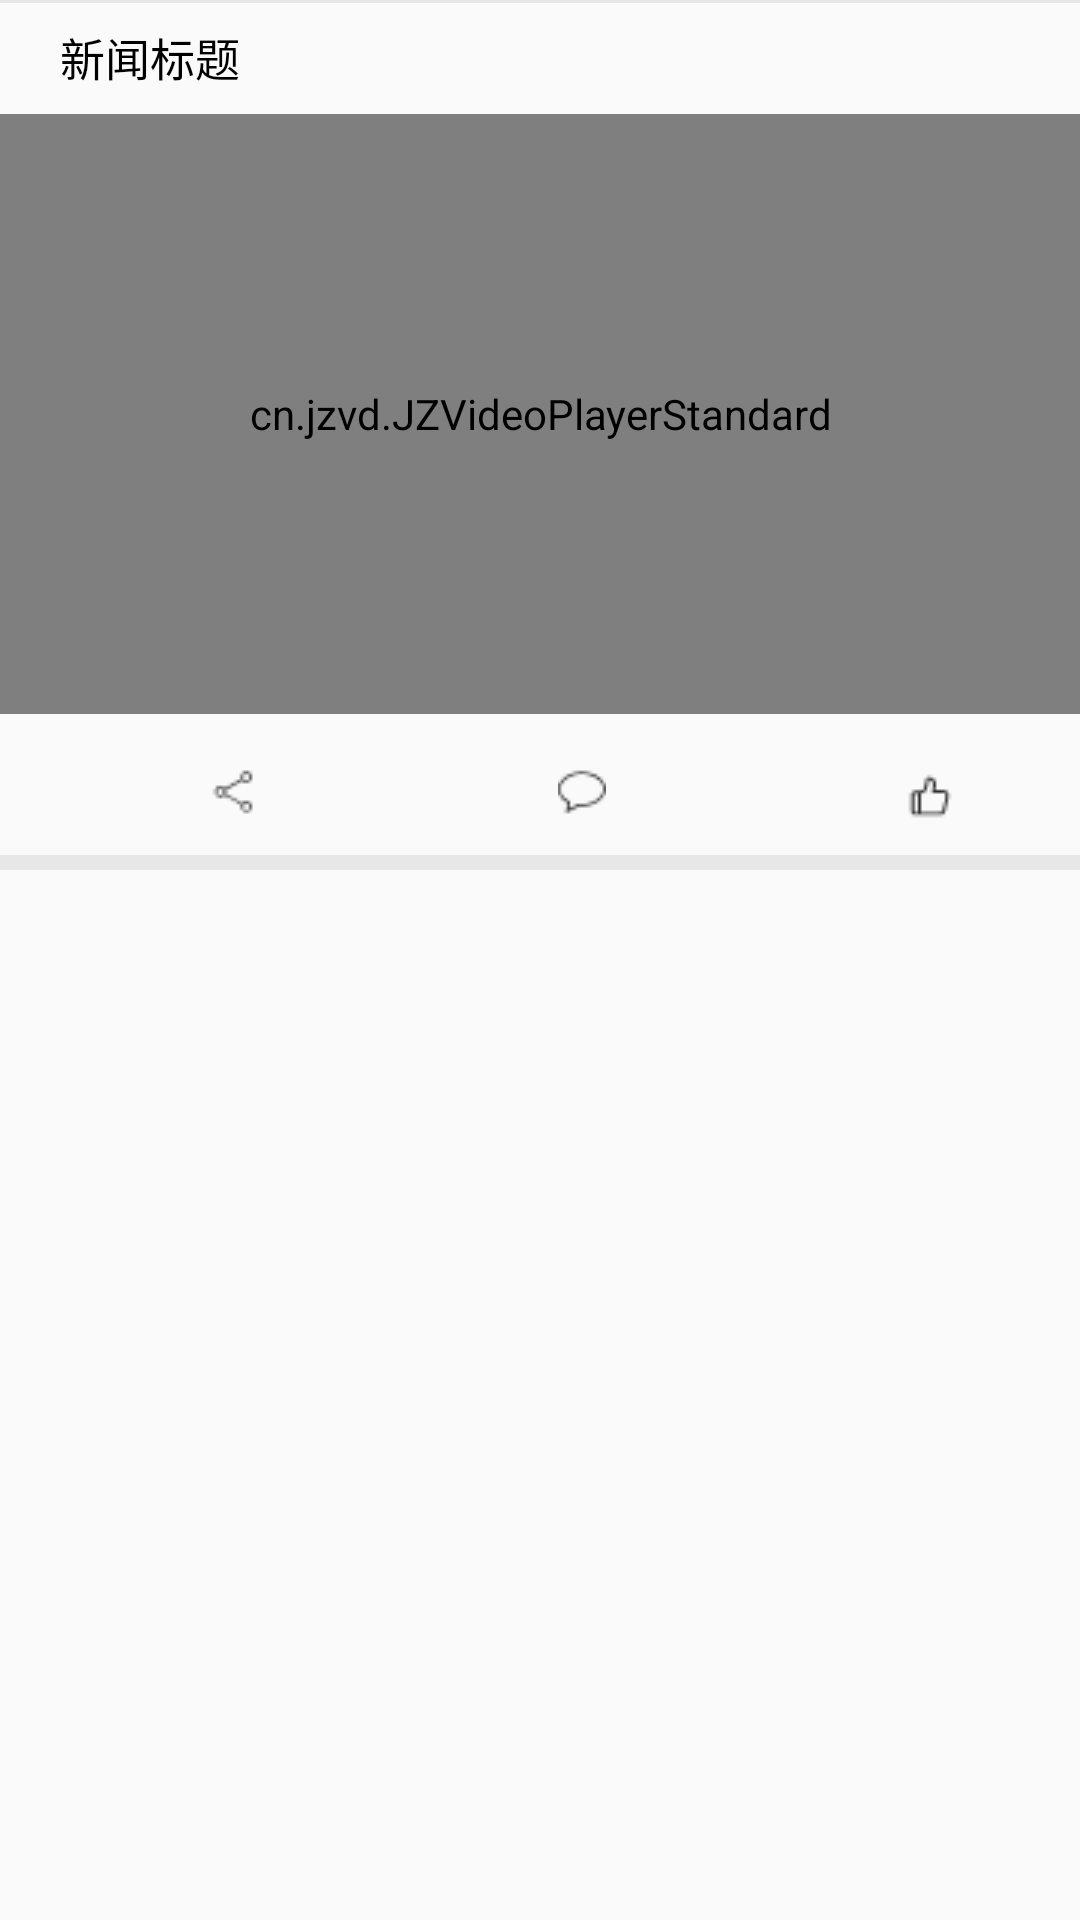

Point at icon controls on the screen. Image size 1080×1920, points as (x=x, y=y).
collect comment: (x=582, y=792)
share collect: (x=233, y=792)
